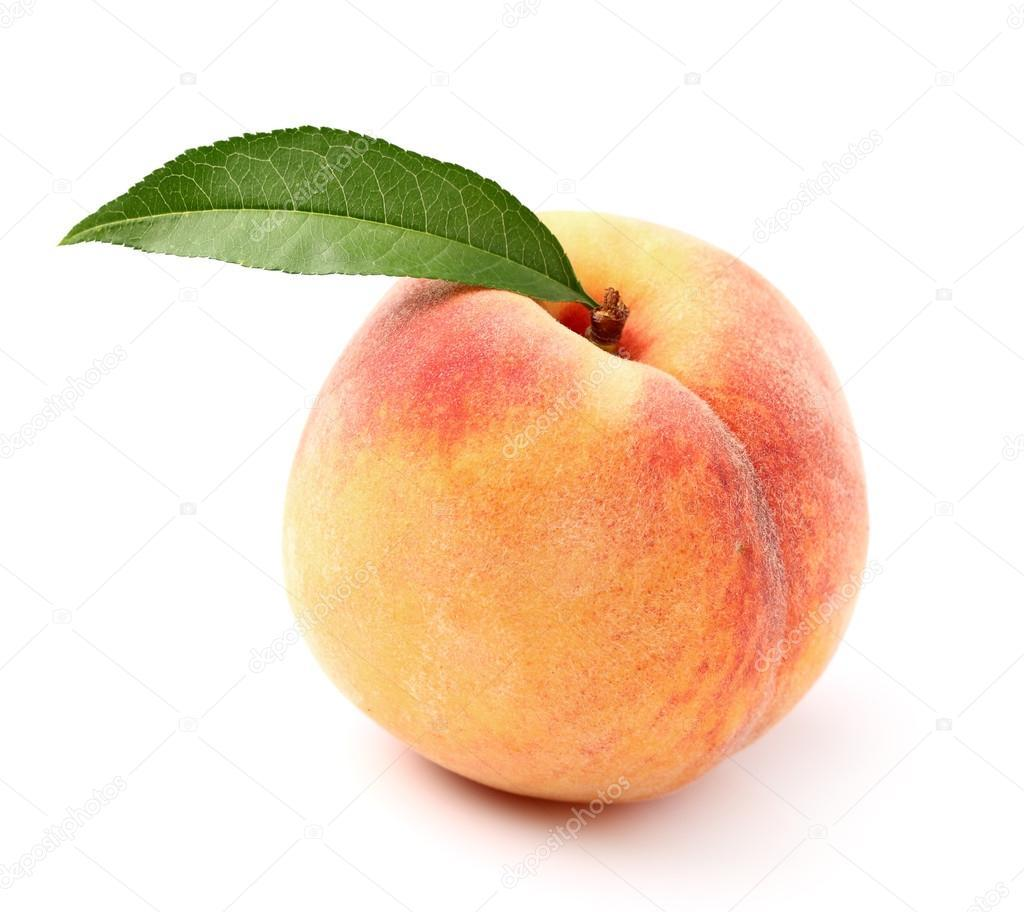Peach leaf: (50, 117, 598, 316)
